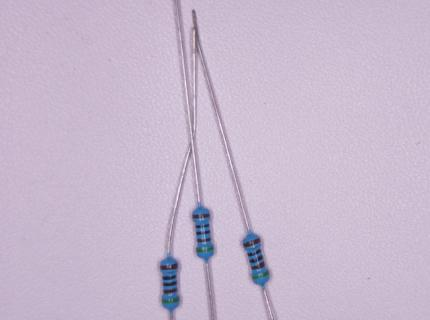Brown band: (252, 261, 265, 270), (164, 288, 177, 294), (198, 238, 211, 243)
Green band: (252, 270, 268, 279), (162, 296, 179, 303), (197, 246, 213, 252)
